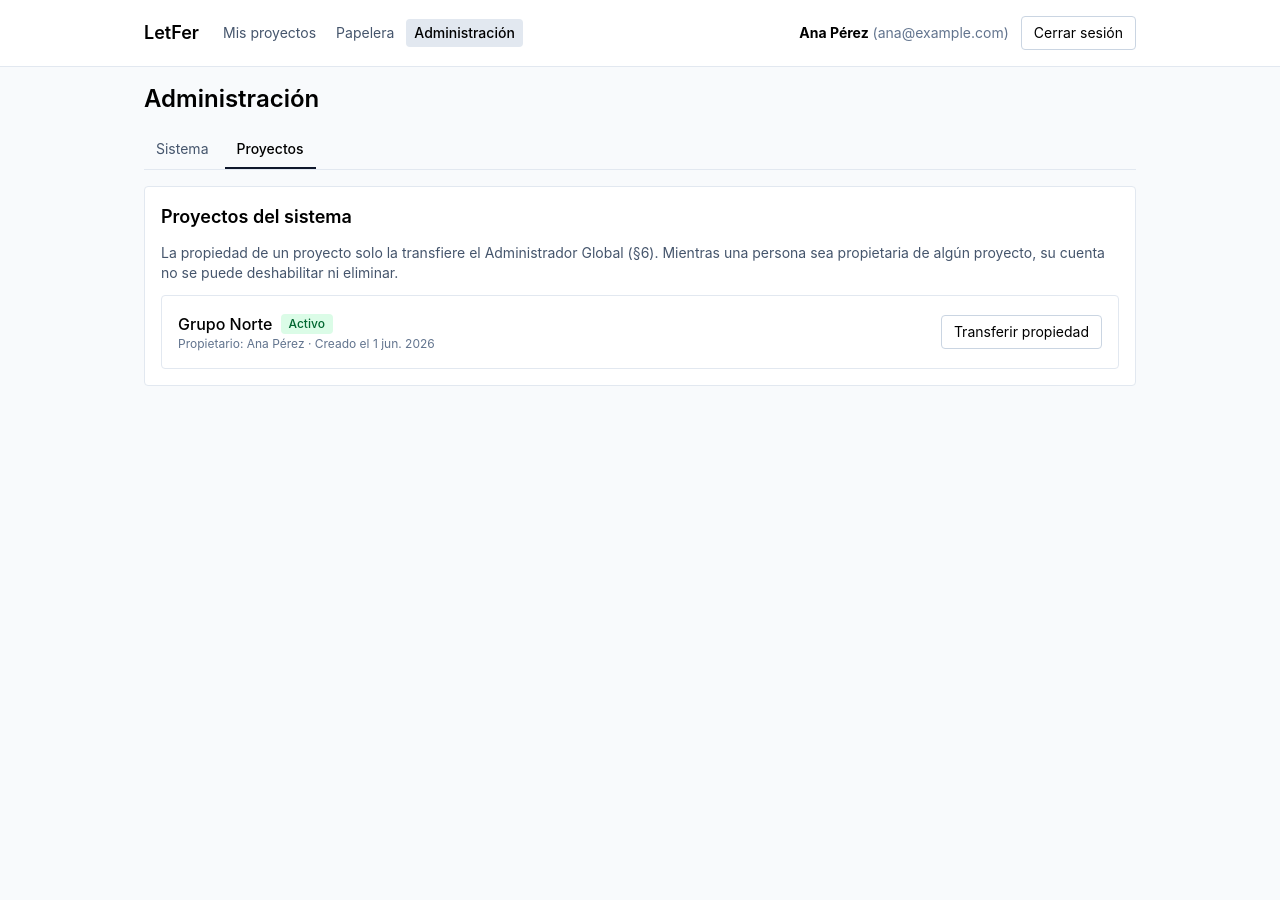
Test case: proyectos del sistema (§111.5) › transfiere la propiedad con reautenticación, sin ofrecer a quien ya es propietario
Click the button with aria-label "Transferir la propiedad de Grupo Norte": x=1021, y=332 [941,315,1102,349]
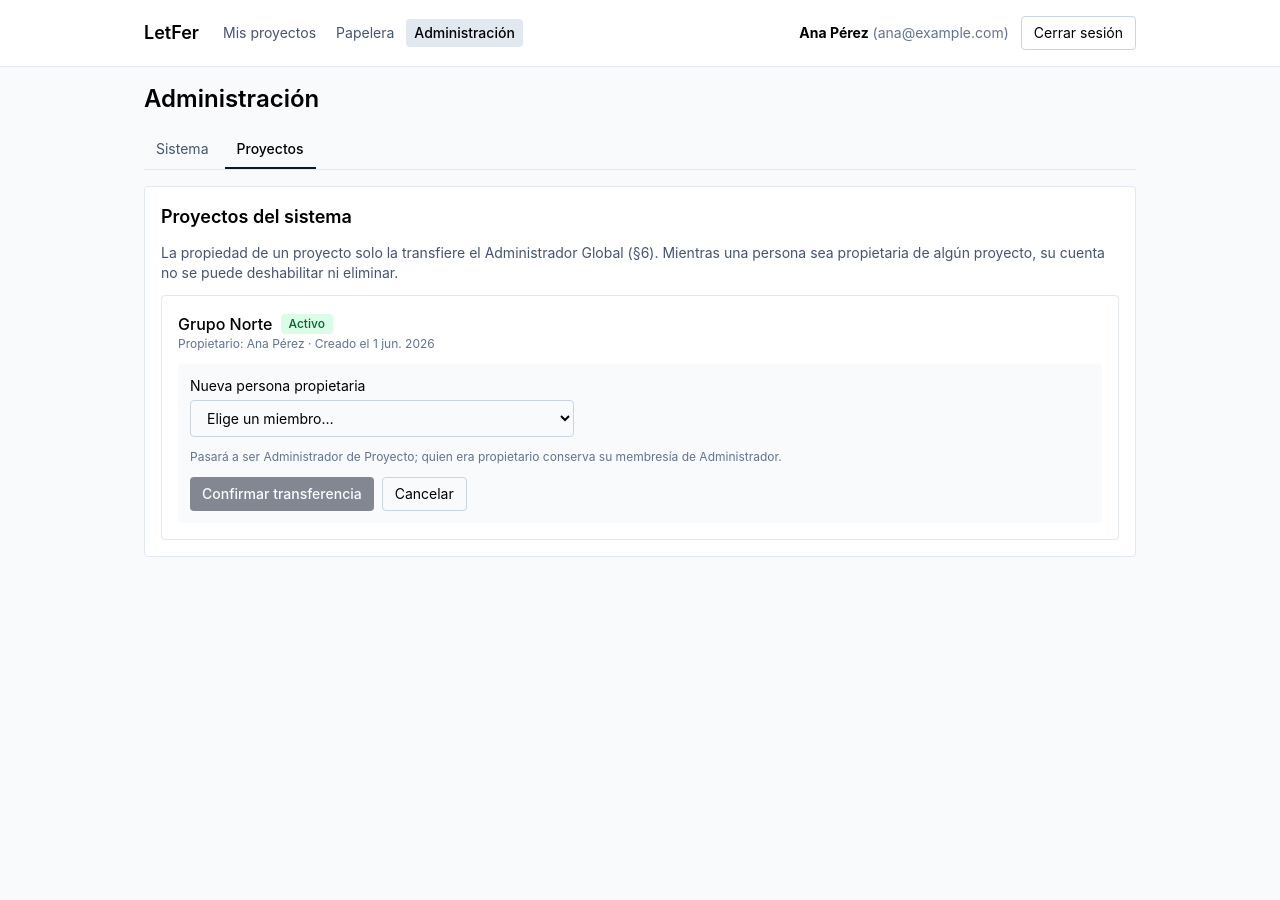
Select "Beto Vega (Colaborador)" in the dropdown labelled "Nueva persona propietaria": x=382, y=418 [190,400,574,437]
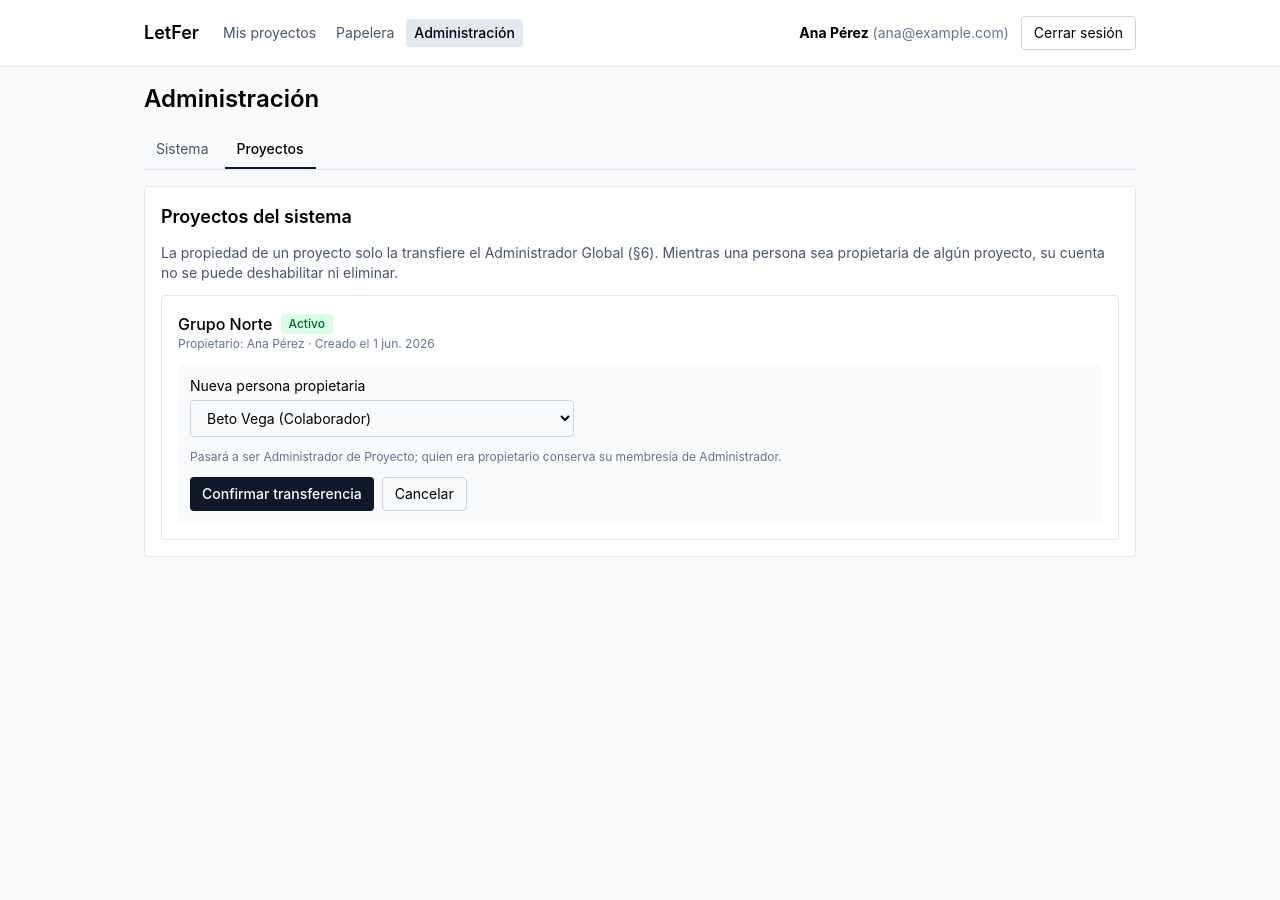
Click the button "Confirmar transferencia": x=282, y=494 [190,477,374,511]
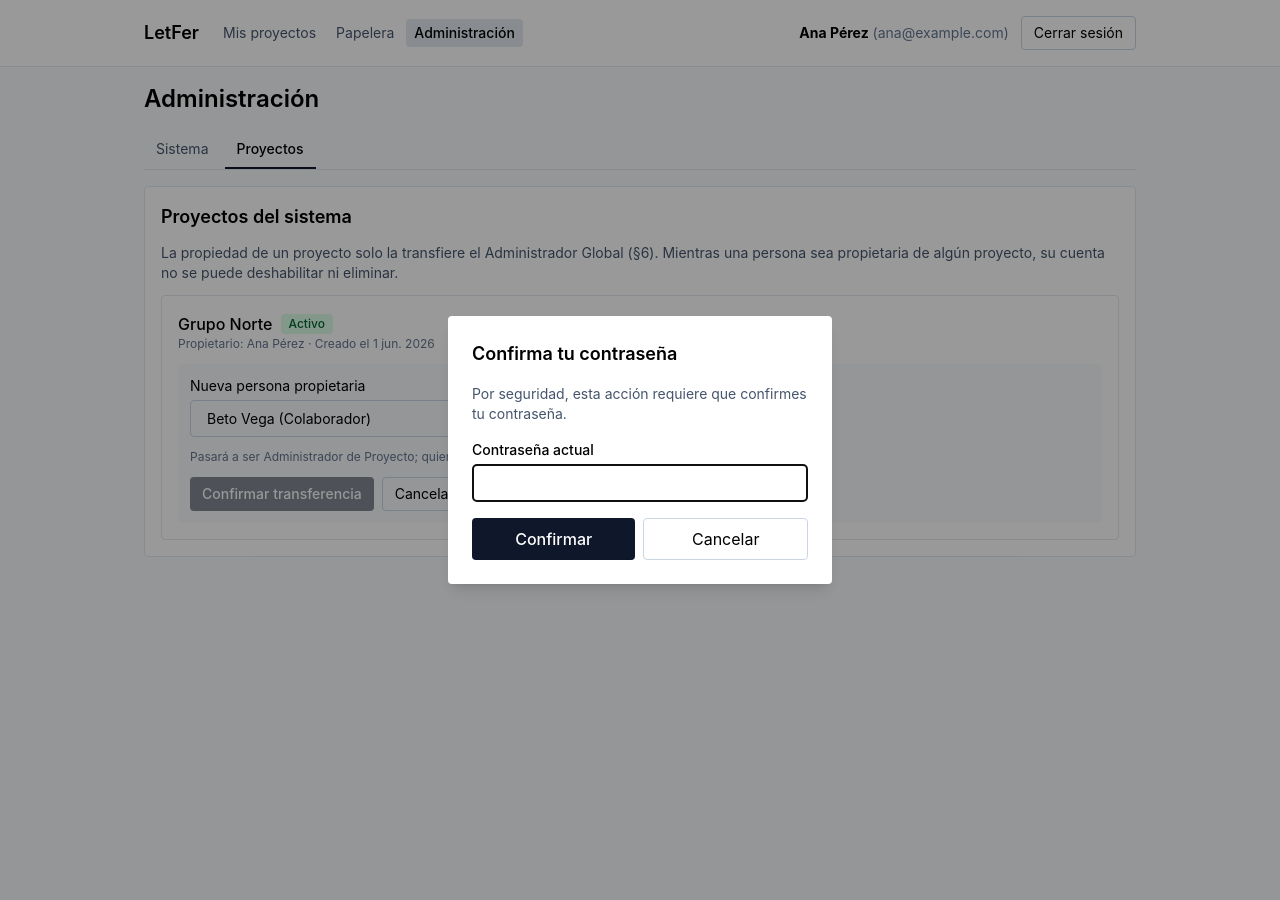
In the password field labelled "Contraseña actual": x=640, y=483 [472,464,808,502], type "mi-clave-secreta"
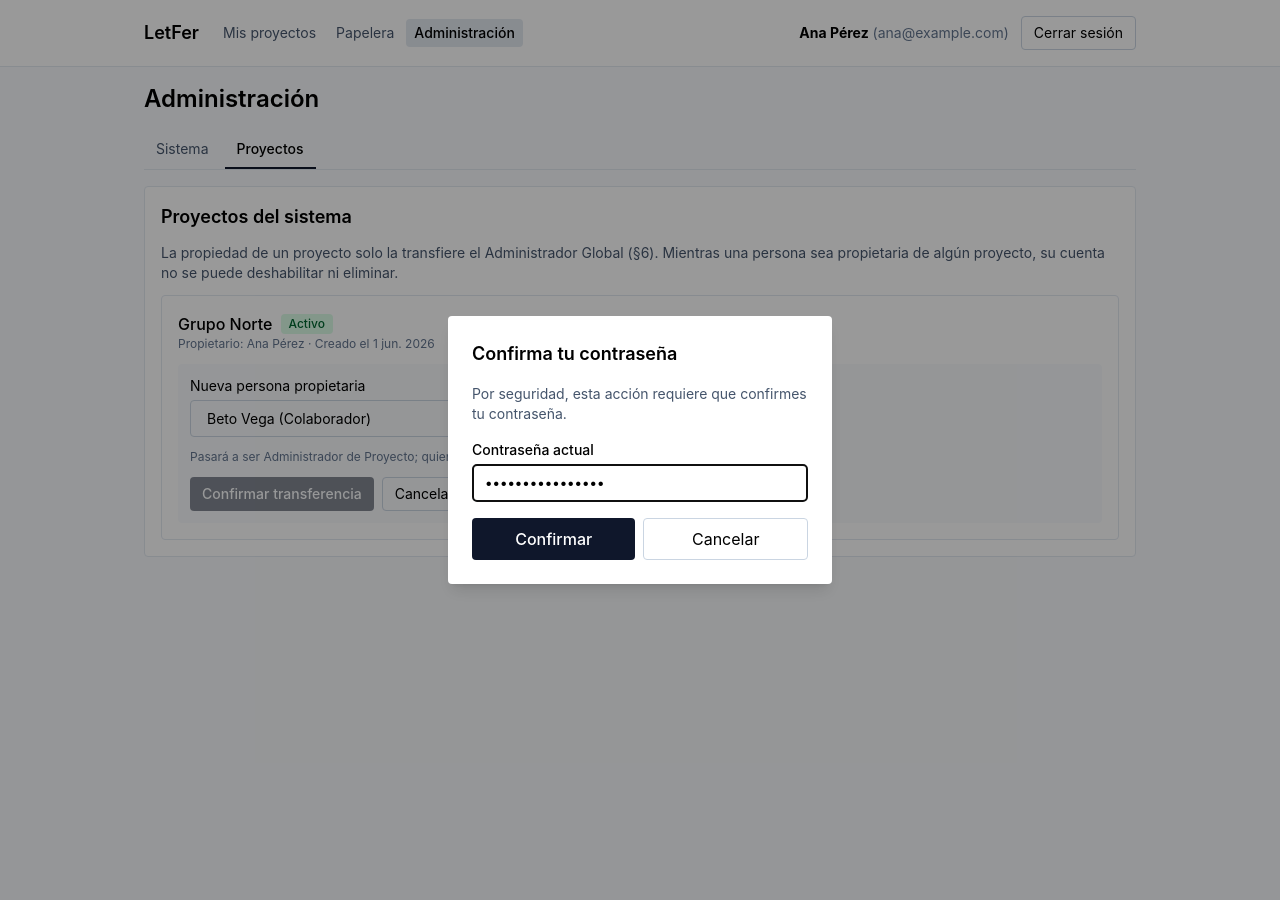
Click the button "Confirmar": x=554, y=539 [472,518,635,560]
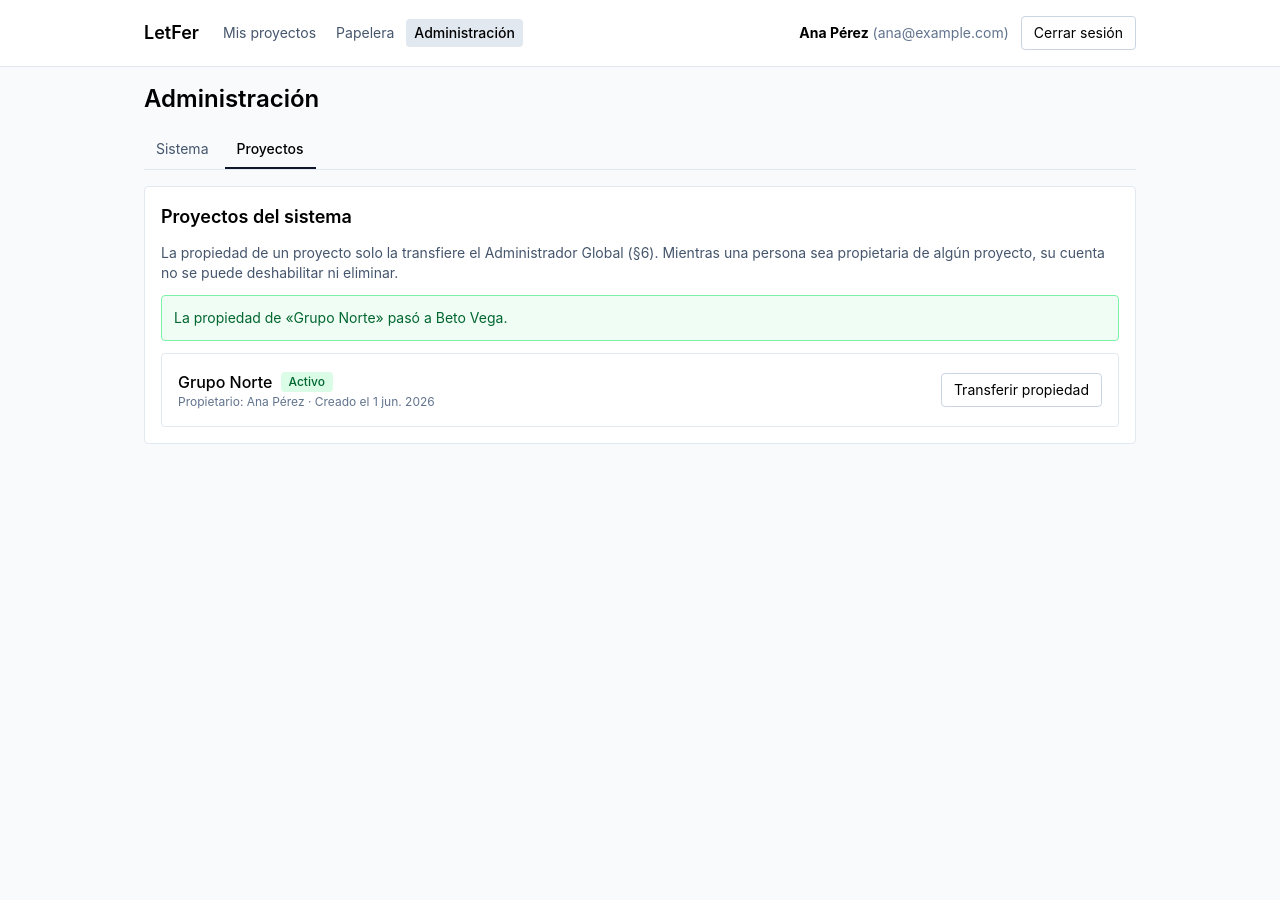
Now the text "La propiedad de «Grupo Norte» pasó a Beto Vega." is shown, box [161,295,1119,341]
